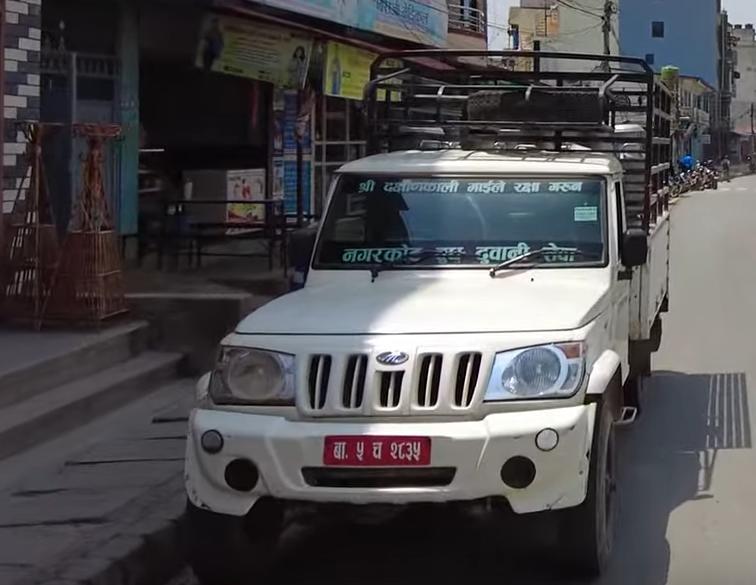transport_vehicle: (166, 40, 678, 585)
